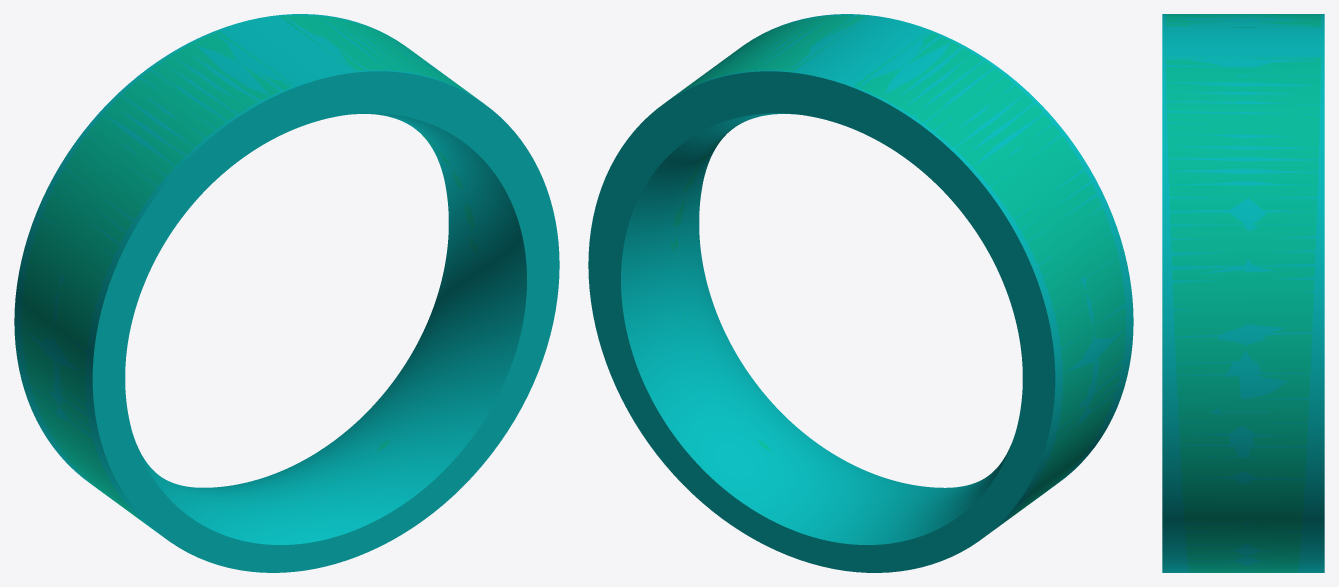
The picture shows the model from 3 angles, left to right: view 1: azimuth 30°, elevation 25°; view 2: azimuth 150°, elevation 25°; view 3: azimuth 270°, elevation 25°; orthographic projection. The views are drawn at different scales.
Parts seen in each view (by area): view 1: VR824(front).3dm; view 2: VR824(front).3dm; view 3: VR824(front).3dm.
Boxes of the visible parts, x1=… form: VR824(front).3dm: x1=14, y1=14, x2=559, y2=572; VR824(front).3dm: x1=588, y1=14, x2=1133, y2=572; VR824(front).3dm: x1=1162, y1=14, x2=1324, y2=572.
Bounding box in the file's own units: 2.78 × 2.78 × 0.8055.
